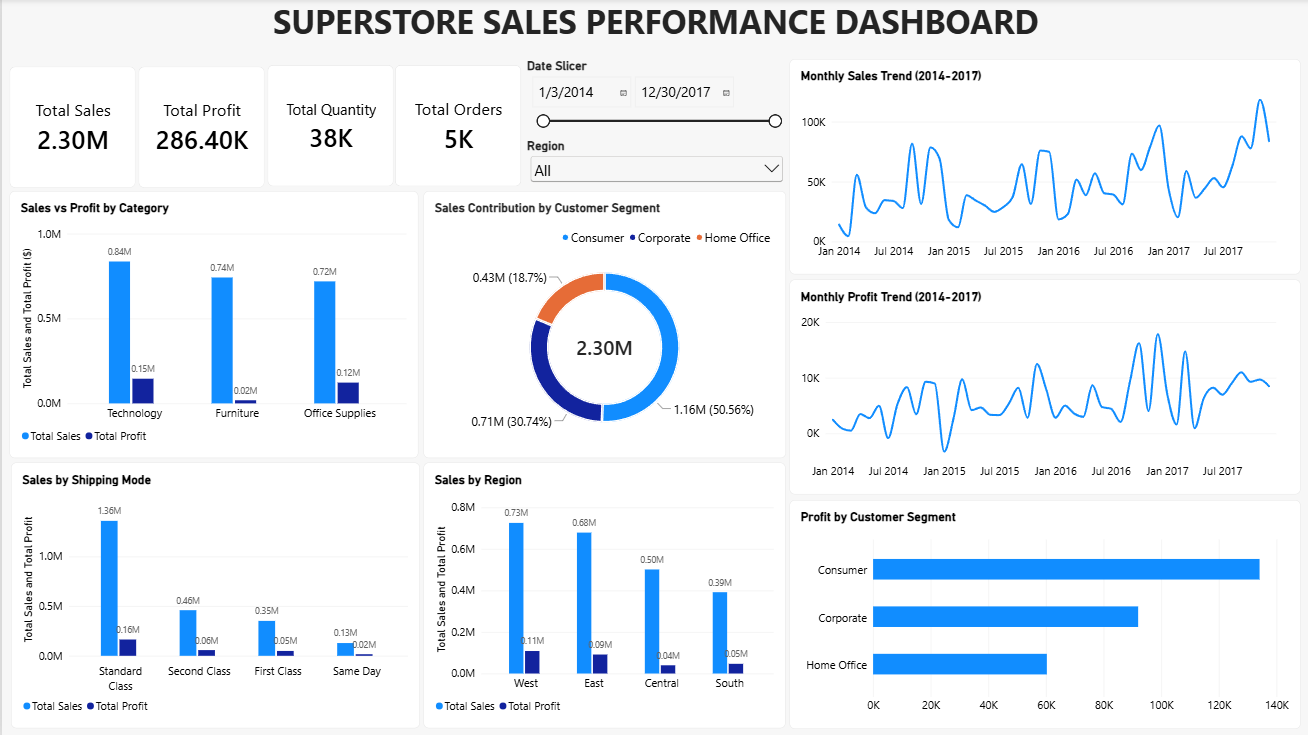

The page's visual inventory and layout, read from the dashboard file:
{"tool":"powerbi","page":{"name":"Page 1","canvas":[1920,1080],"ordinal":0},"visuals":[{"type":"cardVisual","fields":{"Data":["Superstore_Cleaned.Total Sales"]},"box":[12,98,185,178],"z":0},{"type":"cardVisual","fields":{"Data":["Superstore_Cleaned.Total Profit"]},"box":[200.5,98,185,178],"z":1000},{"type":"cardVisual","fields":{"Data":["Superstore_Cleaned.Total Orders"]},"box":[577.5,97.5,185,178],"z":2000},{"type":"clusteredColumnChart","title":"Sales vs Profit by Category","fields":{"Category":["Superstore_Cleaned.Category"],"Y":["Superstore_Cleaned.Total Sales","Superstore_Cleaned.Total Profit"]},"box":[11.4,282,600,392],"z":3000},{"type":"clusteredColumnChart","title":"Sales by Region","fields":{"Category":["Superstore_Cleaned.Region"],"Y":["Superstore_Cleaned.Total Sales","Superstore_Cleaned.Total Profit"]},"box":[618,680,531.4,390],"z":4000},{"type":"donutChart","title":"Sales Contribution by Customer Segment","fields":{"Category":["Superstore_Cleaned.Segment"],"Y":["Superstore_Cleaned.Total Sales"]},"box":[617.6,281.7,532,392],"z":5000},{"type":"clusteredBarChart","title":"Profit by Customer Segment","fields":{"Category":["Superstore_Cleaned.Segment"],"Y":["Superstore_Cleaned.Total Profit"]},"box":[1155.7,734.3,750,335.7],"z":6000},{"type":"clusteredColumnChart","title":"Sales by Shipping Mode","fields":{"Category":["Superstore_Cleaned.Ship Mode"],"Y":["Superstore_Cleaned.Total Sales","Superstore_Cleaned.Total Profit"]},"box":[12.5,680,600,390],"z":7000},{"type":"cardVisual","fields":{"Data":["Superstore_Cleaned.Total Quantity"]},"box":[389,97.5,185,178],"z":8000},{"type":"slicer","title":"Region","fields":{"Values":["Superstore_Cleaned.Region"]},"box":[769.6,204.6,380,77.5],"z":9000},{"type":"slicer","title":"Date Slicer","fields":{"Values":["Superstore_Cleaned.Order Date"]},"box":[769.6,87.5,380,117.5],"z":10000},{"type":"textbox","box":[382.5,0,1152.5,67.5],"z":11000},{"type":"lineChart","title":"Monthly Sales Trend (2014-2017)","fields":{"Category":["Superstore_Cleaned.Order Date.Variation.Date Hierarchy.Year","Superstore_Cleaned.Order Date.Variation.Date Hierarchy.Month"],"Y":["Superstore_Cleaned.Total Sales"]},"box":[1155.8,88.4,750,316.3],"z":12000},{"type":"lineChart","title":"Monthly Profit Trend (2014-2017)","fields":{"Category":["Superstore_Cleaned.Order Date.Variation.Date Hierarchy.Year","Superstore_Cleaned.Order Date.Variation.Date Hierarchy.Month"],"Y":["Superstore_Cleaned.Total Profit"]},"box":[1155,412,750,315],"z":13000}]}

Visuals, with their boxes in screenshot pixels (x1, y1, x2, y2), scaled from the page's 1920x1080 canvas onto the 1308x735 screenshot:
cardVisual - Superstore_Cleaned.Total Sales: BBox(8, 67, 134, 188)
cardVisual - Superstore_Cleaned.Total Profit: BBox(137, 67, 263, 188)
cardVisual - Superstore_Cleaned.Total Orders: BBox(393, 66, 519, 187)
"Sales vs Profit by Category" clusteredColumnChart: BBox(8, 192, 417, 459)
"Sales by Region" clusteredColumnChart: BBox(421, 463, 783, 728)
"Sales Contribution by Customer Segment" donutChart: BBox(421, 192, 783, 458)
"Profit by Customer Segment" clusteredBarChart: BBox(787, 500, 1298, 728)
"Sales by Shipping Mode" clusteredColumnChart: BBox(9, 463, 417, 728)
cardVisual - Superstore_Cleaned.Total Quantity: BBox(265, 66, 391, 187)
"Region" slicer: BBox(524, 139, 783, 192)
"Date Slicer" slicer: BBox(524, 60, 783, 140)
textbox: BBox(261, 0, 1046, 46)
"Monthly Sales Trend (2014-2017)" lineChart: BBox(787, 60, 1298, 275)
"Monthly Profit Trend (2014-2017)" lineChart: BBox(787, 280, 1298, 495)
